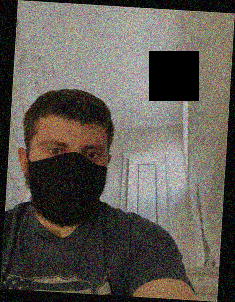with_mask: (26, 131, 108, 228)
